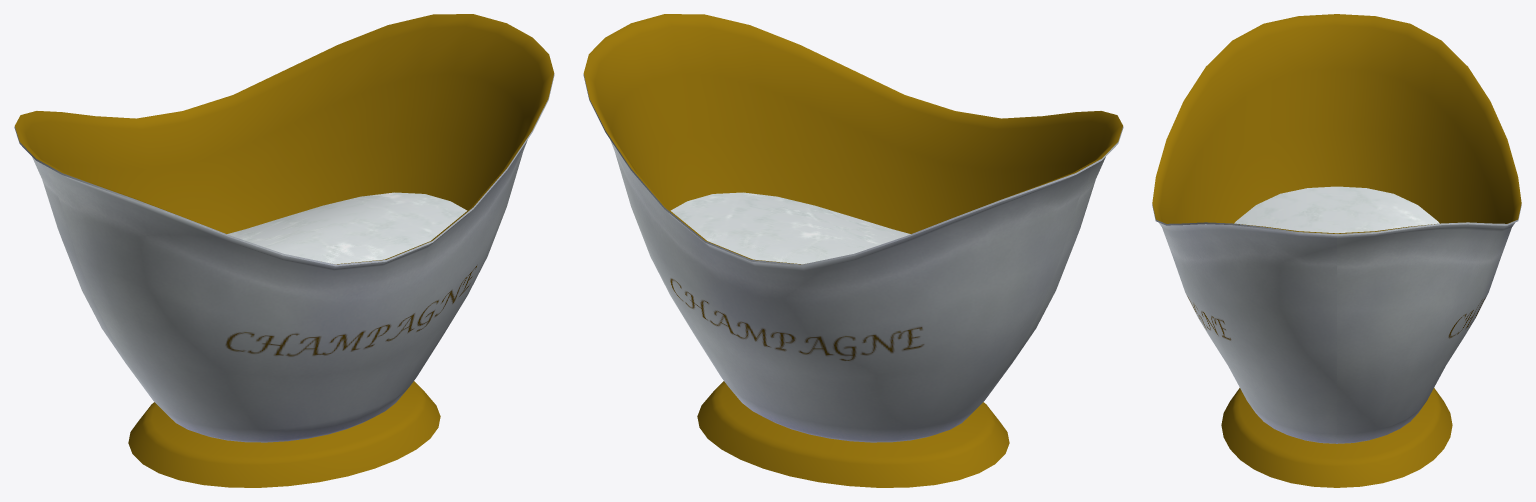
File: IceBucket01_1_2.FBX
3 renders of one model, left to right at view 1: azimuth 30°, elevation 25°; view 2: azimuth 150°, elevation 25°; view 3: azimuth 270°, elevation 25°, orthographic. The views are drawn at different scales.
Parts seen in each view (by area): view 1: IceBucket01_2; view 2: IceBucket01_2; view 3: IceBucket01_2.
Part boxes in pixels (<box>): IceBucket01_2: <box>14,14,554,487</box>; IceBucket01_2: <box>583,14,1123,487</box>; IceBucket01_2: <box>1152,14,1521,487</box>.
Size of the model in its own units: 38.63 by 24.64 by 27.4.
